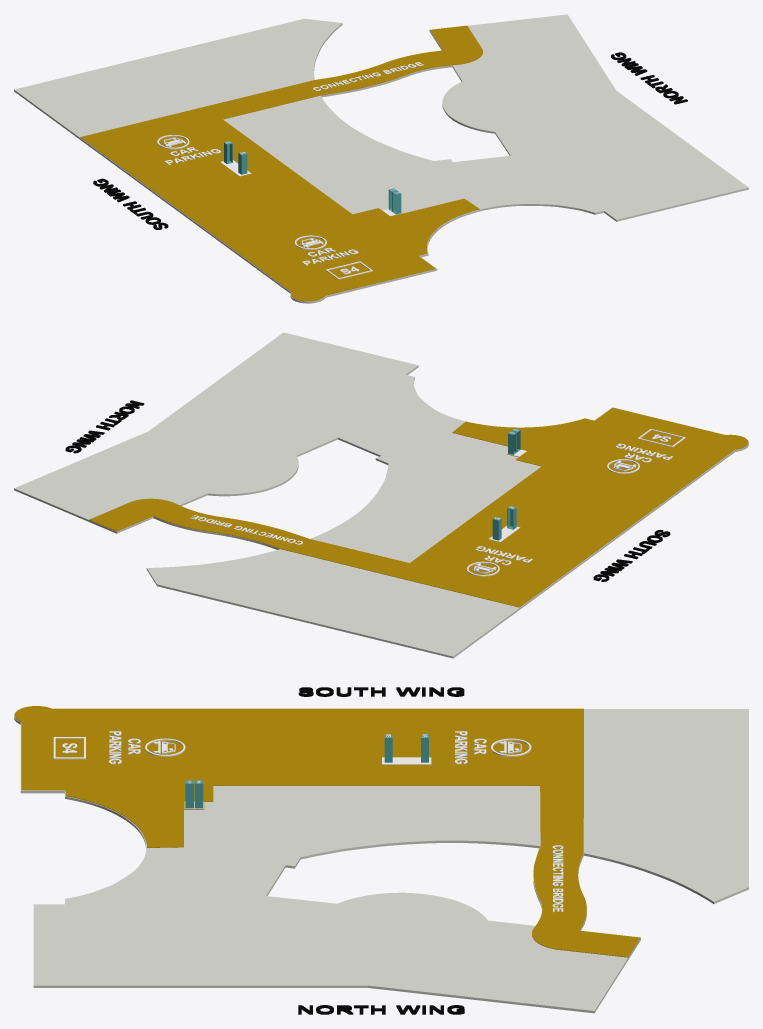
File: floor-4.gltf
3 views of the same model, one above another, from view 1: azimuth 30°, elevation 25°; view 2: azimuth 150°, elevation 25°; view 3: azimuth 270°, elevation 25° (orthographic). The views are drawn at different scales.
Visible parts, largest first — view 1: Shape003, Line951, Line977, Text105, Text073; view 2: Shape003, Line951, Line977, Text105, Text073; view 3: Shape003, Line951, Line977, Text105, Text073, Text174, Text171, Text172.
Part boxes in pixels (<box>): Shape003: <box>14,14,748,303</box>; Line951: <box>80,106,479,301</box>; Line977: <box>205,25,482,119</box>; Text105: <box>611,52,687,104</box>; Text073: <box>93,178,168,229</box>; Shape003: <box>14,332,748,658</box>; Line951: <box>392,407,748,607</box>; Line977: <box>89,498,409,576</box>; Text105: <box>65,400,144,453</box>; Text073: <box>593,530,670,581</box>; Shape003: <box>14,709,748,1013</box>; Line951: <box>14,706,583,847</box>; Line977: <box>532,785,640,957</box>; Text105: <box>298,1005,464,1014</box>; Text073: <box>298,687,464,696</box>; Text174: <box>552,845,563,912</box>; Text171: <box>455,731,486,764</box>; Text172: <box>109,731,140,764</box>.
Bounding box in the file's own units: 119 × 4.79 × 113.
